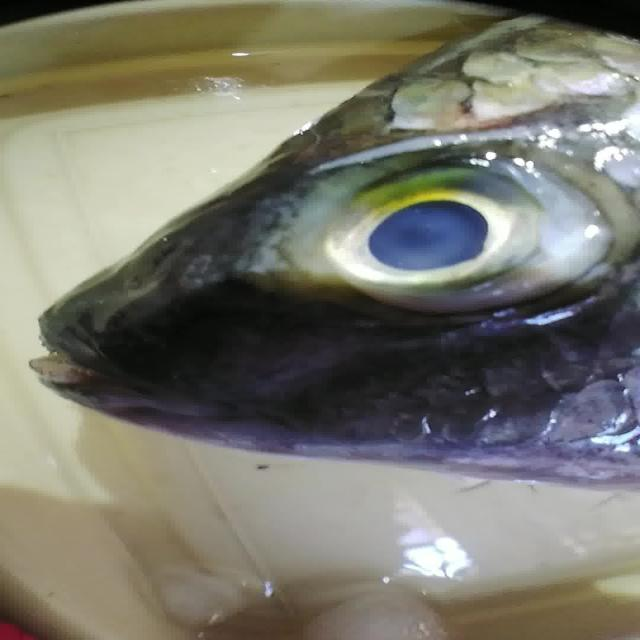Fresh: (264, 119, 604, 353)
